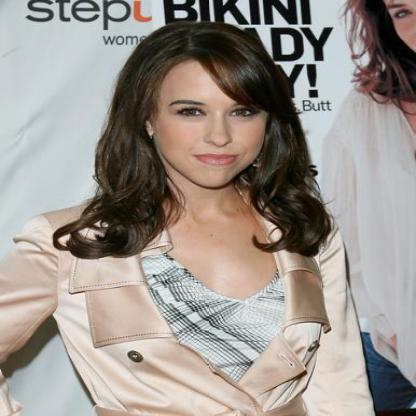long-hair: (66, 189, 352, 234)
